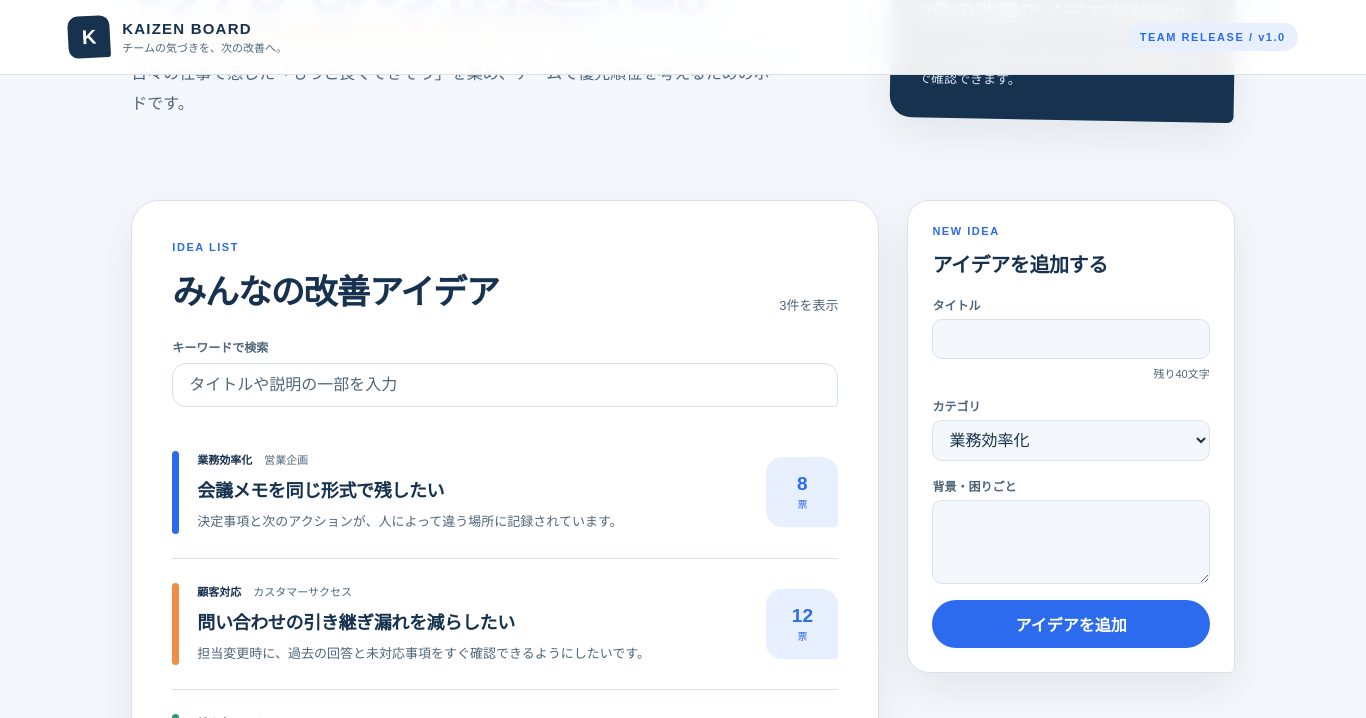
Test case: キーワード検索とアイデア一覧の連動 › 一致するアイデアがないときは、その旨を表示する
(page scrolled)
Step 1. Type "存在しないキーワード" into the search field labelled "キーワードで検索" → coordinates (505, 385), box [172,363,838,407]
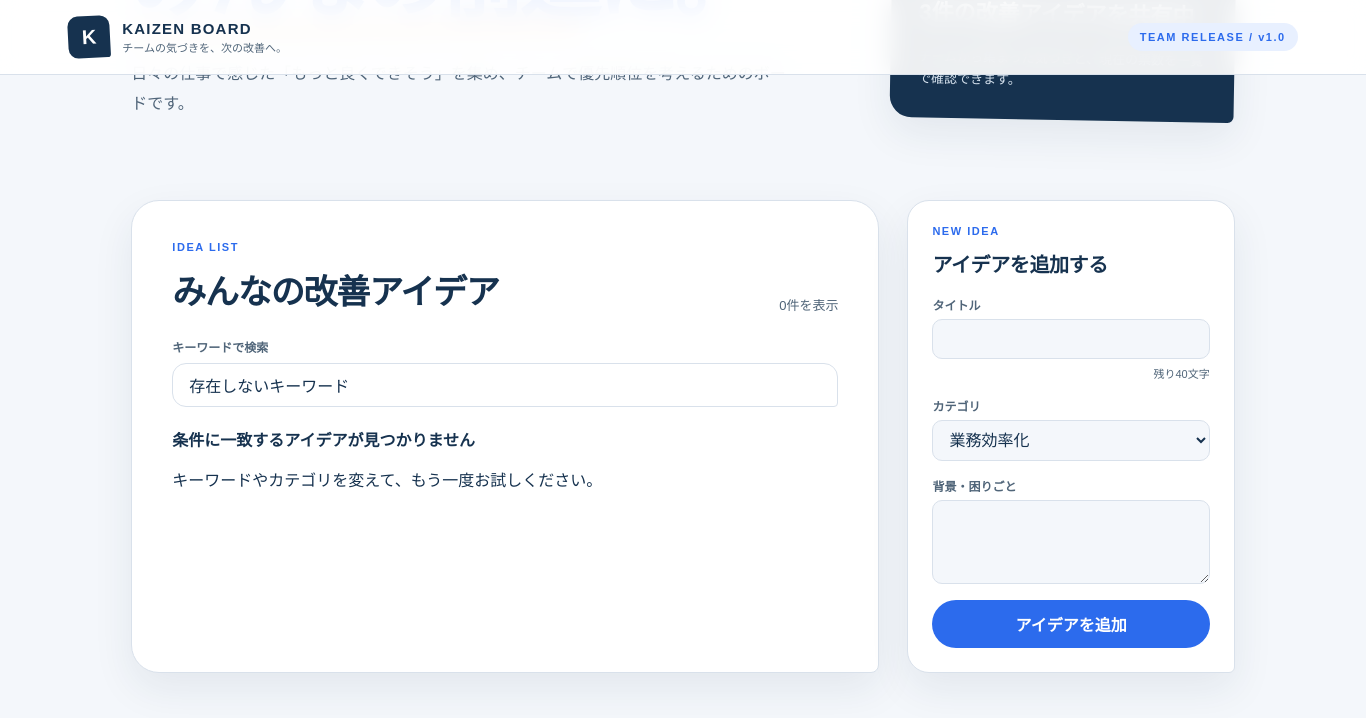
expect the text "条件に一致するアイデアが見つかりません" is shown: met, box [172,432,475,449]
expect the text "0件を表示" is shown: met, box [779,295,838,314]
